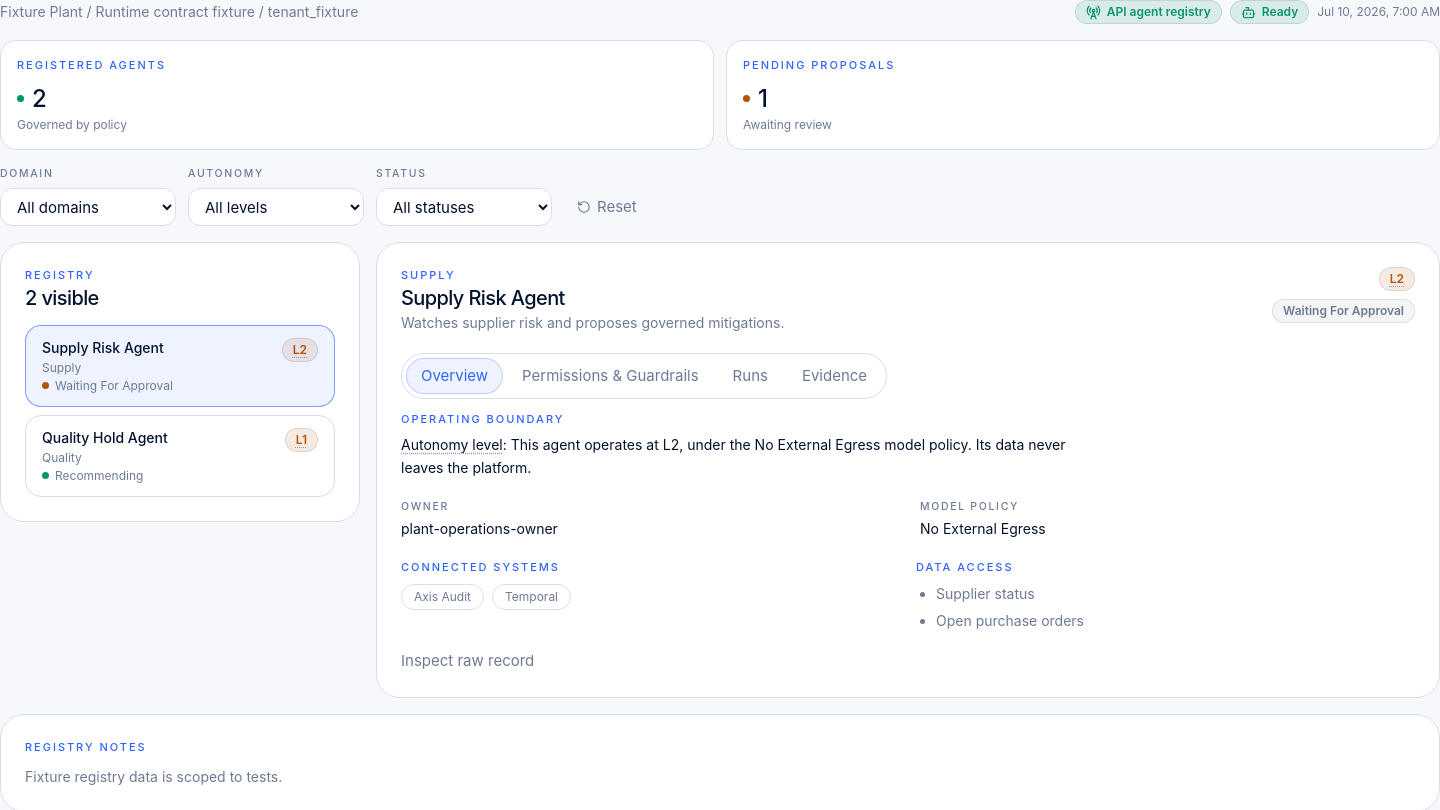
Test: AgentRegistry list and filters › shows a zero-results EmptyPanel with a working reset action
The width and height of the screenshot is (1440, 810).
Select "Quality" in the dropdown labelled "Domain": (88,207) [0, 188, 176, 226]
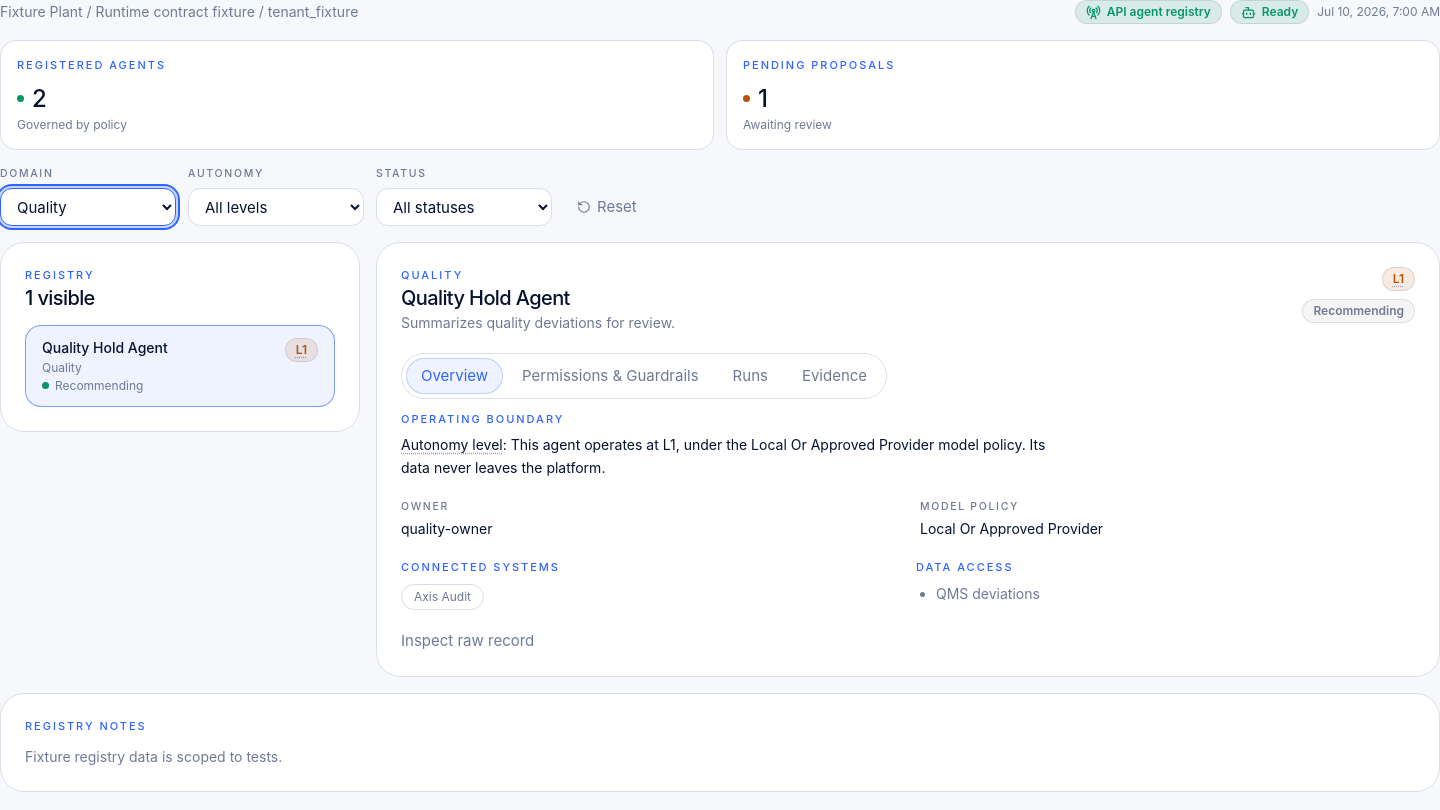
Select "L2" in the dropdown labelled "Autonomy": (276,207) [188, 188, 364, 226]
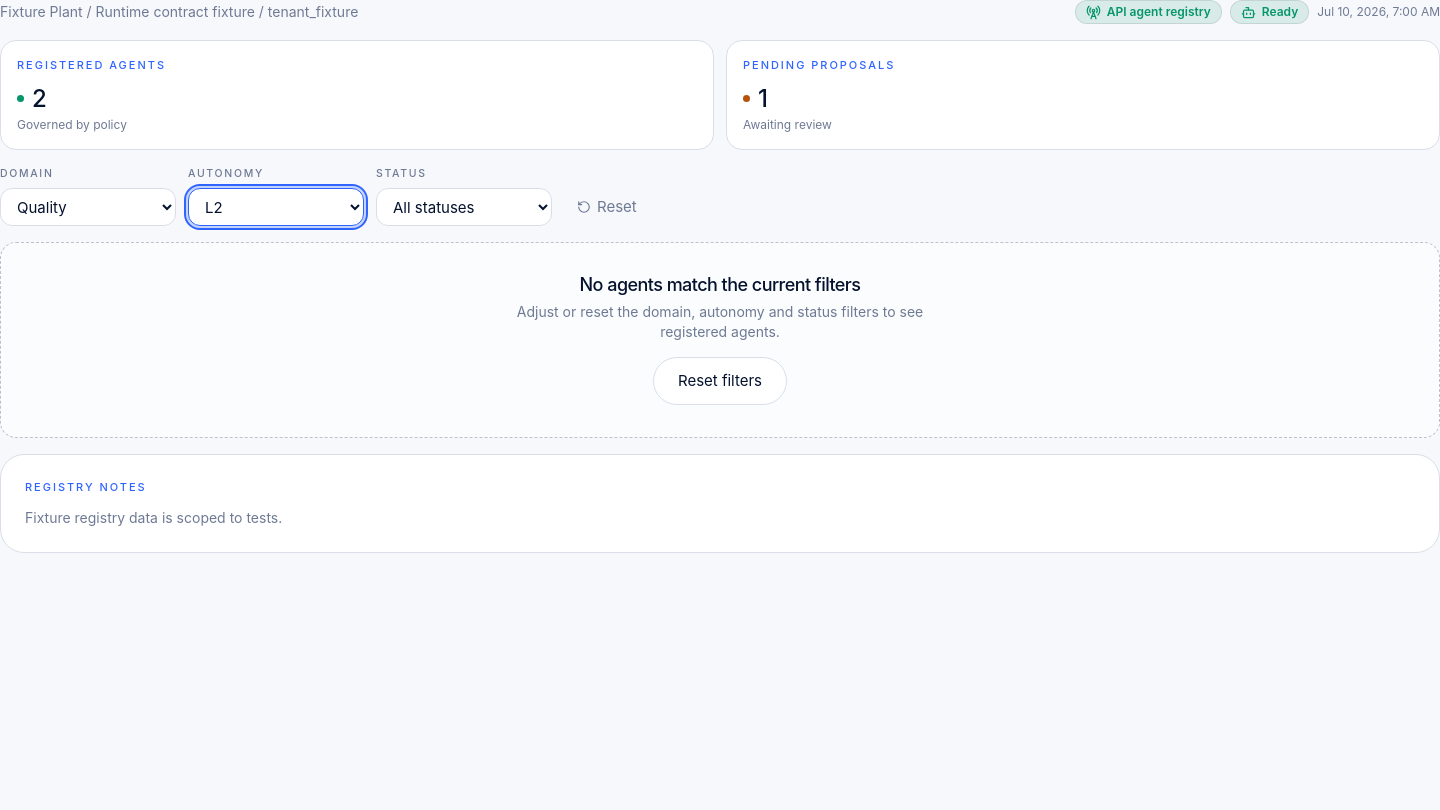
expect the heading "No agents match the current filters" is shown: met, box [580, 275, 860, 294]
Click the button "Reset filters": (720,381) [653, 357, 787, 405]
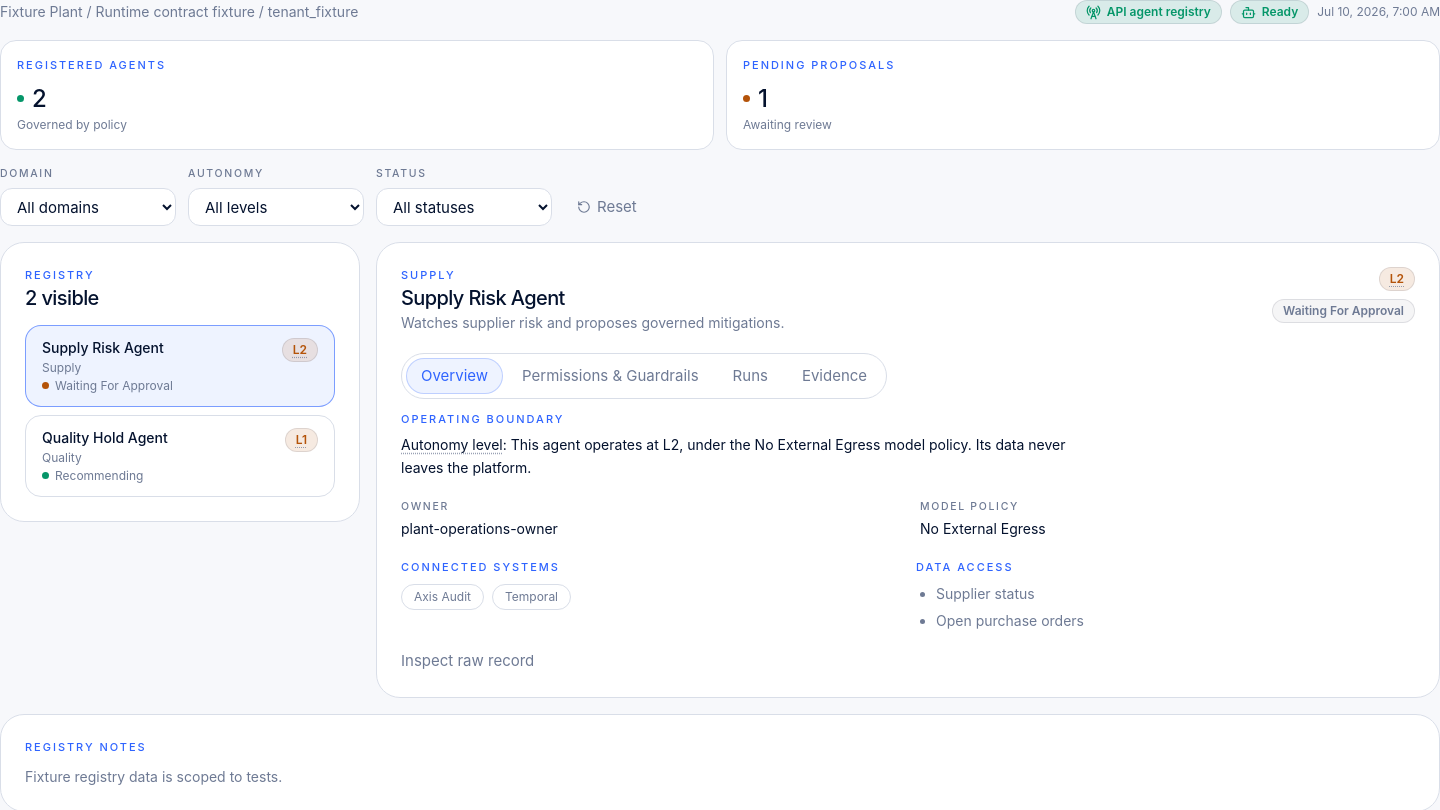
expect the button "Supply Risk Agent Supply Waiting For Approval L2" is shown: met, box [25, 325, 335, 407]
expect the button "Quality Hold Agent Quality Recommending L1" is shown: met, box [25, 415, 335, 497]
